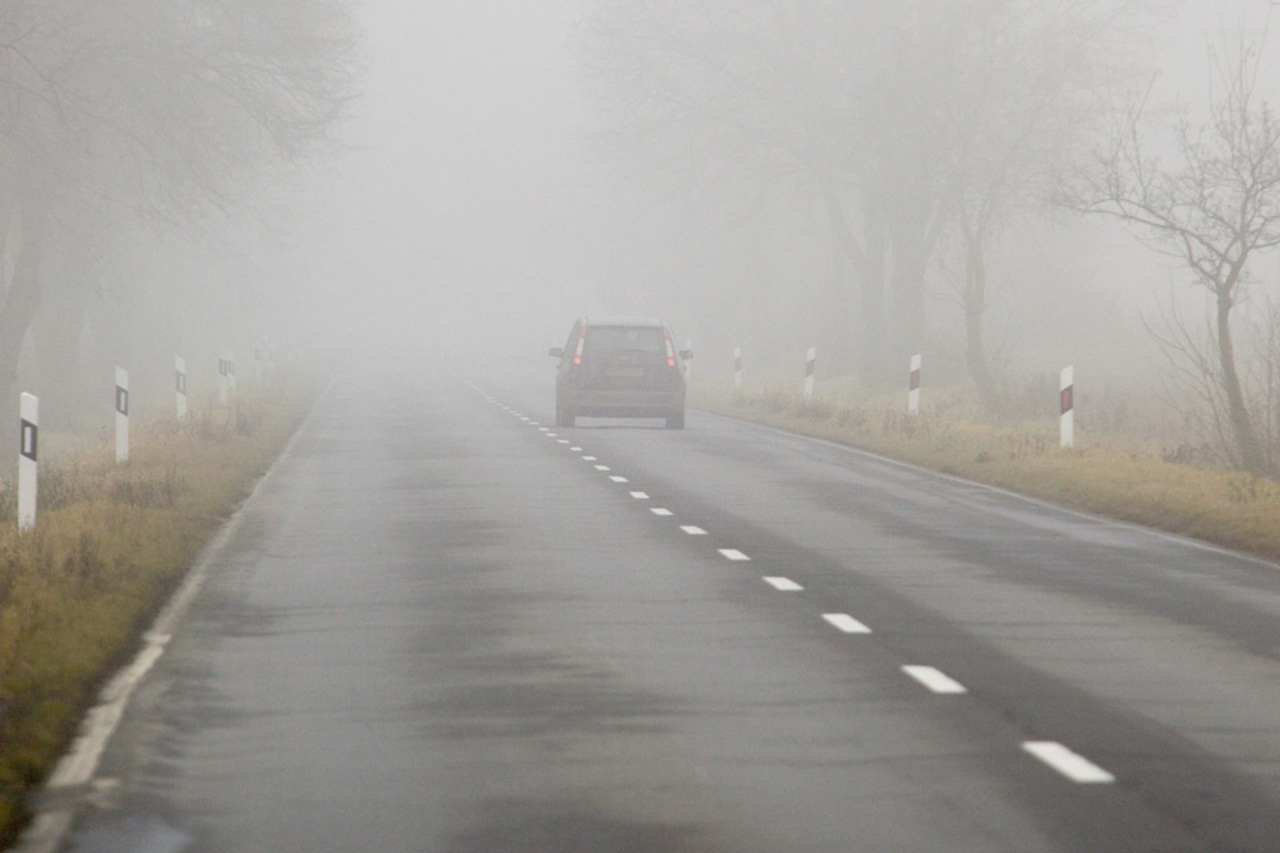car: (551, 317, 687, 427)
